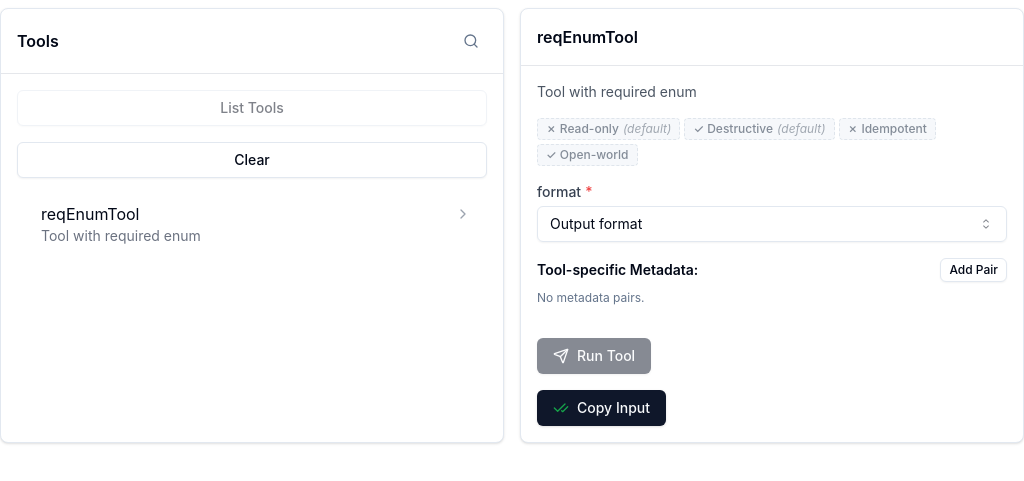
ToolsTab › validation hint clearing and select aria wiring › empty required enum select after blur carries aria-invalid, aria-describedby, border-red-500
Step 1. Click the dropdown labelled "Output format" → {"x": 596, "y": 224}, box [537,206,1007,242]
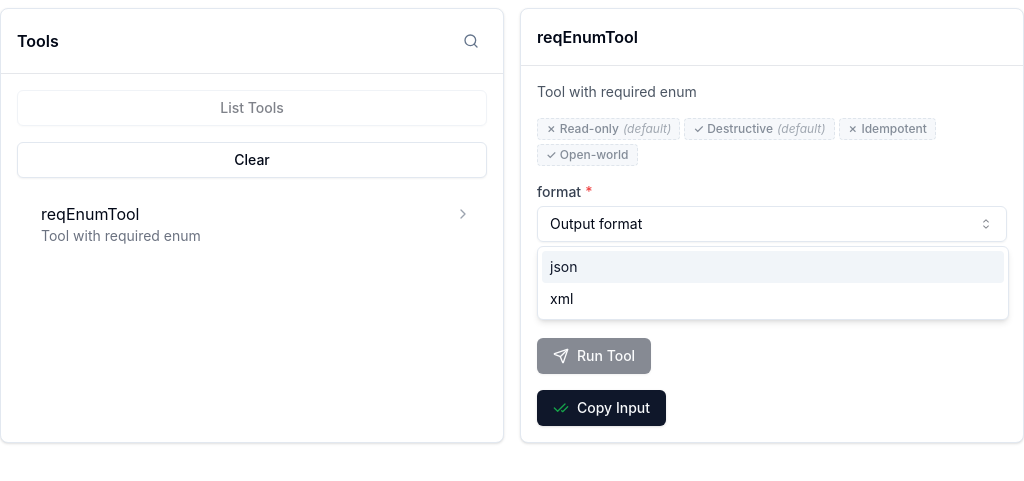
Step 2. Press Escape in the option "json", box [542,251,1004,283]
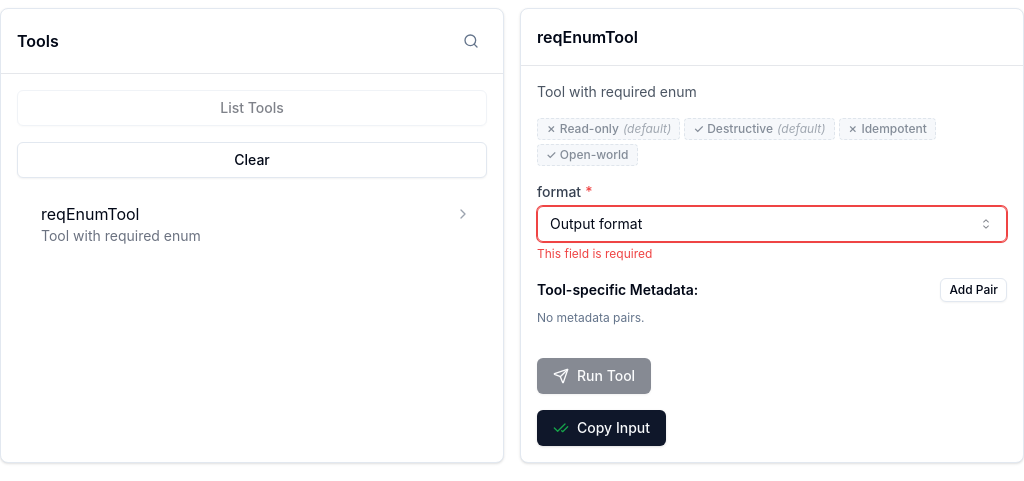
Expected: the message reads "This field is required", [537,246,652,261]
